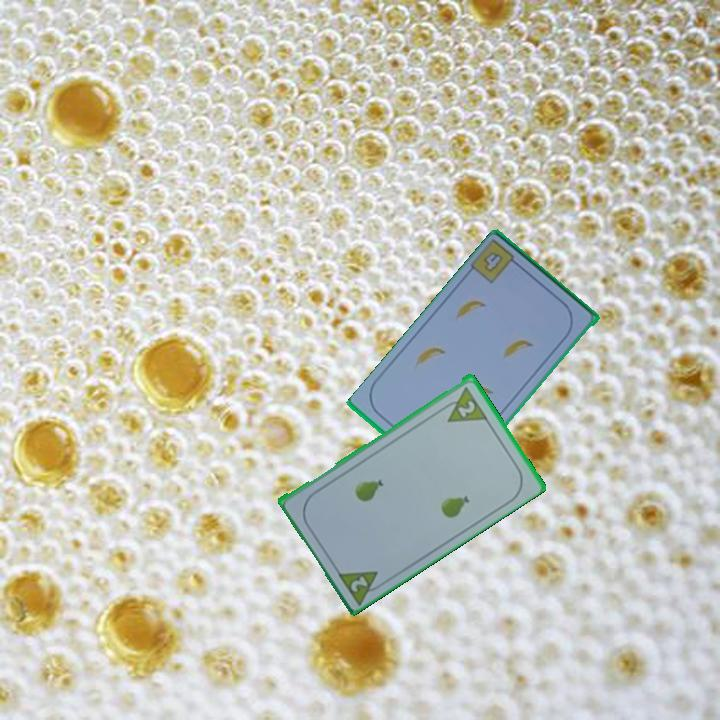2p: (454, 396, 478, 420), (347, 572, 371, 595)
4b: (468, 237, 524, 288)
